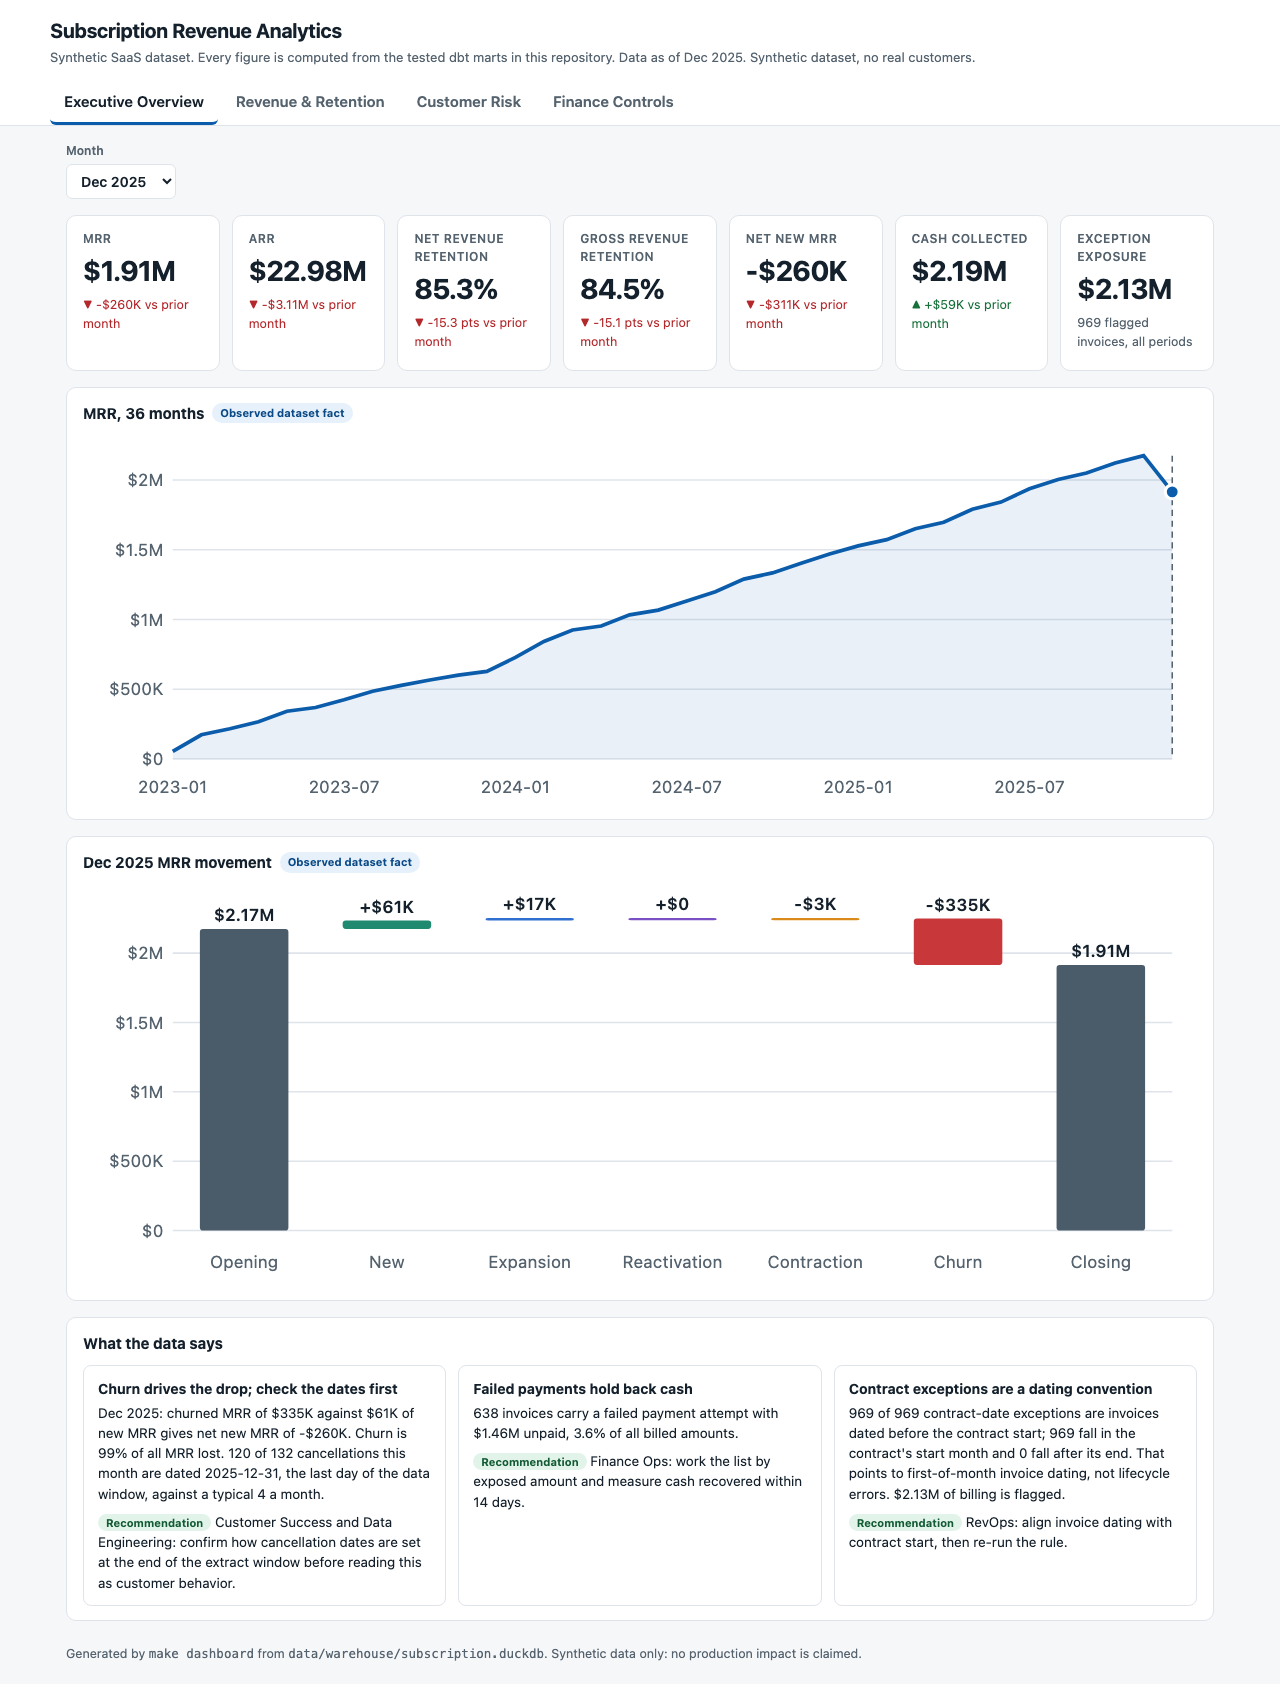

Layout of this report page (visuals, bound fields, positions):
{"tool":"tableau","page":{"name":"Executive overview","canvas":[1366,768],"ordinal":0},"visuals":[{"type":"text","box":[0,0,1366,72]},{"type":"text","box":[0,72,1366,36]},{"type":"text","box":[0,108,1366,36]},{"type":"parameter","param":"[Parameters].[month_param]","box":[0,144,273.2,48]},{"type":"text","box":[273.2,144,1092.8,48]},{"type":"worksheet","title":"KPI Ending MRR","mark":"Text","box":[0,192,227.7,112]},{"type":"worksheet","title":"KPI Net new MRR","mark":"Text","box":[227.7,192,227.7,112]},{"type":"worksheet","title":"KPI Gross revenue retention","mark":"Text","box":[455.3,192,227.7,112]},{"type":"worksheet","title":"KPI Net revenue retention","mark":"Text","box":[683,192,227.7,112]},{"type":"worksheet","title":"KPI Active customers","mark":"Text","box":[910.7,192,227.7,112]},{"type":"worksheet","title":"KPI Billing exceptions","mark":"Text","box":[1138.4,192,227.6,112]},{"type":"worksheet","title":"MRR bridge","mark":"Bar","rows":["value"],"cols":["component"],"box":[0,304,683,432]},{"type":"worksheet","title":"Ending MRR trend","mark":"Line","rows":["closing_mrr"],"cols":["month_start"],"box":[683,304,683,432]},{"type":"text","box":[0,736,1366,32]}]}

Visuals, with their boxes on the page's 1366x768 design canvas (x1, y1, x2, y2). These are canvas units, not pixel positions in the 1280x1684 screenshot, which may show the page scaled, cropped or inside an application window:
text: x1=0, y1=0, x2=1366, y2=72
text: x1=0, y1=72, x2=1366, y2=108
text: x1=0, y1=108, x2=1366, y2=144
parameter: x1=0, y1=144, x2=273, y2=192
text: x1=273, y1=144, x2=1366, y2=192
"KPI Ending MRR" worksheet (Text marks): x1=0, y1=192, x2=228, y2=304
"KPI Net new MRR" worksheet (Text marks): x1=228, y1=192, x2=455, y2=304
"KPI Gross revenue retention" worksheet (Text marks): x1=455, y1=192, x2=683, y2=304
"KPI Net revenue retention" worksheet (Text marks): x1=683, y1=192, x2=911, y2=304
"KPI Active customers" worksheet (Text marks): x1=911, y1=192, x2=1138, y2=304
"KPI Billing exceptions" worksheet (Text marks): x1=1138, y1=192, x2=1366, y2=304
"MRR bridge" worksheet (Bar marks): x1=0, y1=304, x2=683, y2=736
"Ending MRR trend" worksheet (Line marks): x1=683, y1=304, x2=1366, y2=736
text: x1=0, y1=736, x2=1366, y2=768
